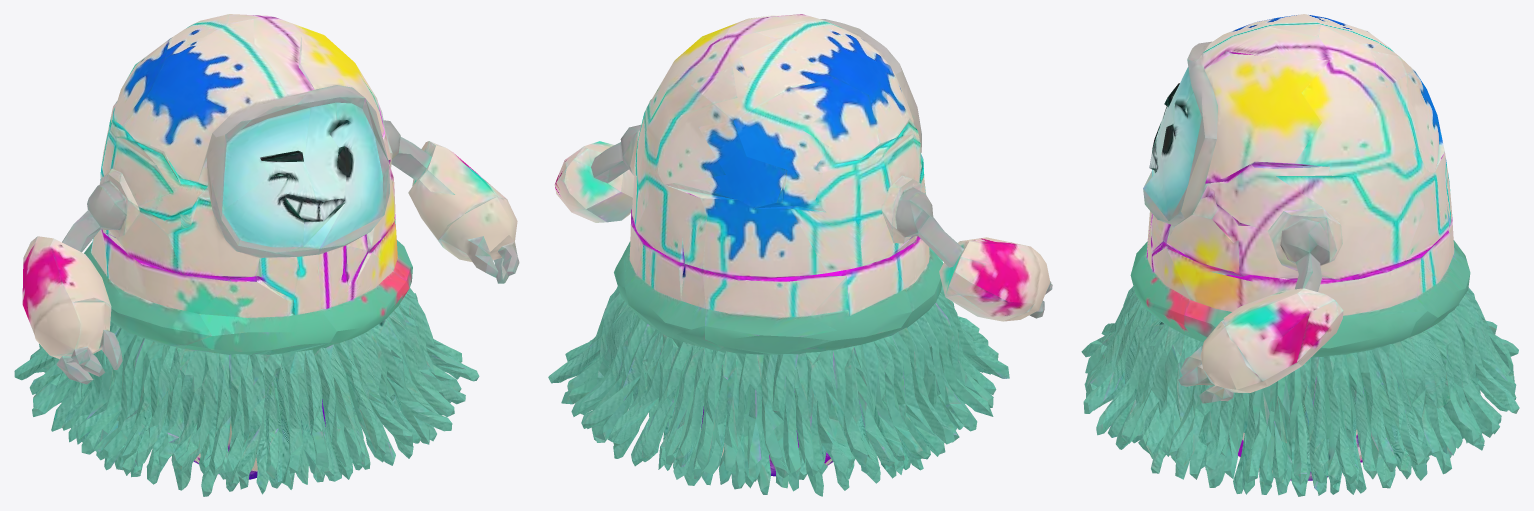
The model's file is mopsy.glb.
3 renders of one model, left to right at view 1: azimuth 30°, elevation 25°; view 2: azimuth 150°, elevation 25°; view 3: azimuth 270°, elevation 25°, orthographic.
Visible parts, largest first — view 1: Mesh_0; view 2: Mesh_0; view 3: Mesh_0.
Part boxes in pixels (<box>): Mesh_0: <box>14,14,519,496</box>; Mesh_0: <box>548,14,1052,496</box>; Mesh_0: <box>1081,14,1519,496</box>.
Size of the model in its own units: 1.89 by 1.7 by 1.52.
1 material, 1 textured.
